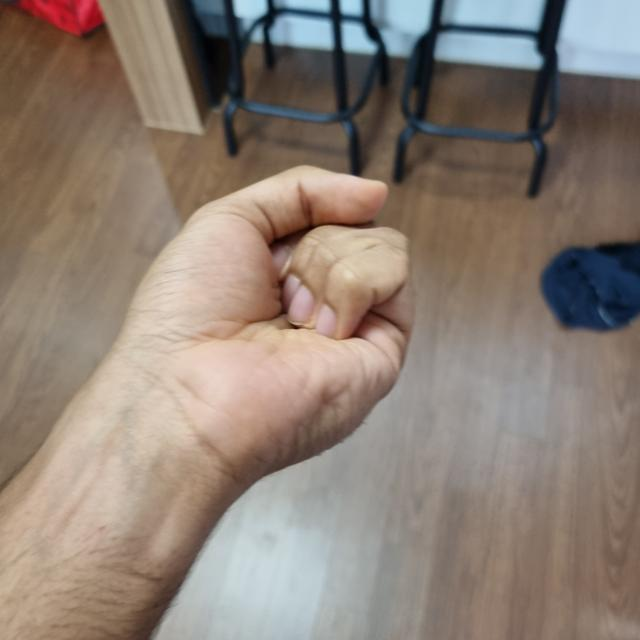Rock: (110, 169, 410, 491)
